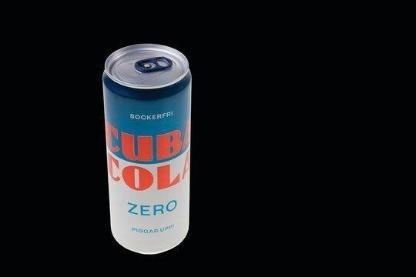Can: (101, 42, 193, 256)
